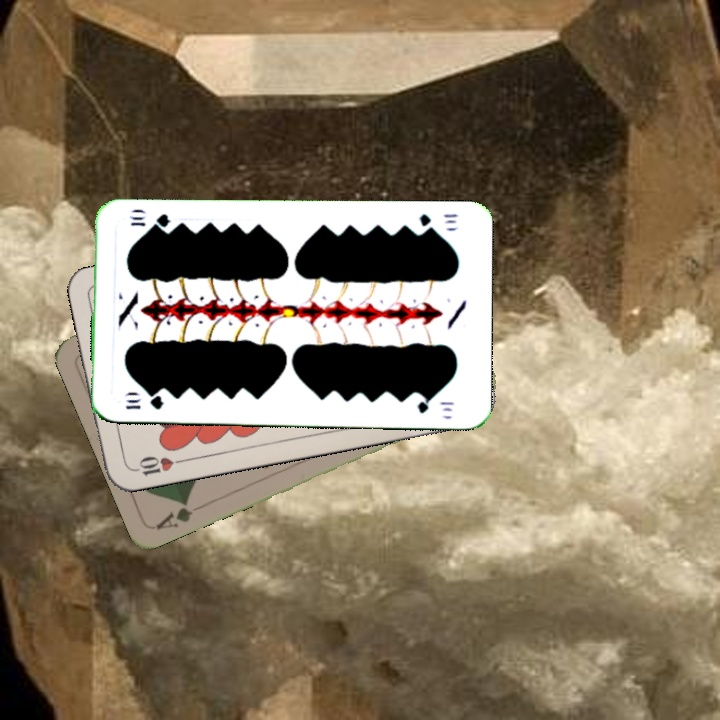G10: (415, 210, 461, 235), (122, 392, 166, 412)
GA: (152, 495, 195, 533)
H10: (127, 452, 186, 479)
